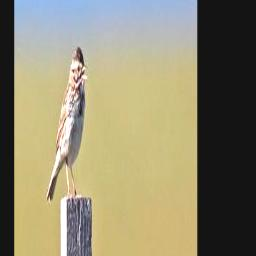Sparrow: (45, 40, 89, 212)
